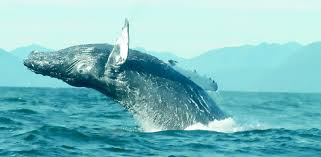humpback: (23, 45, 234, 129)
